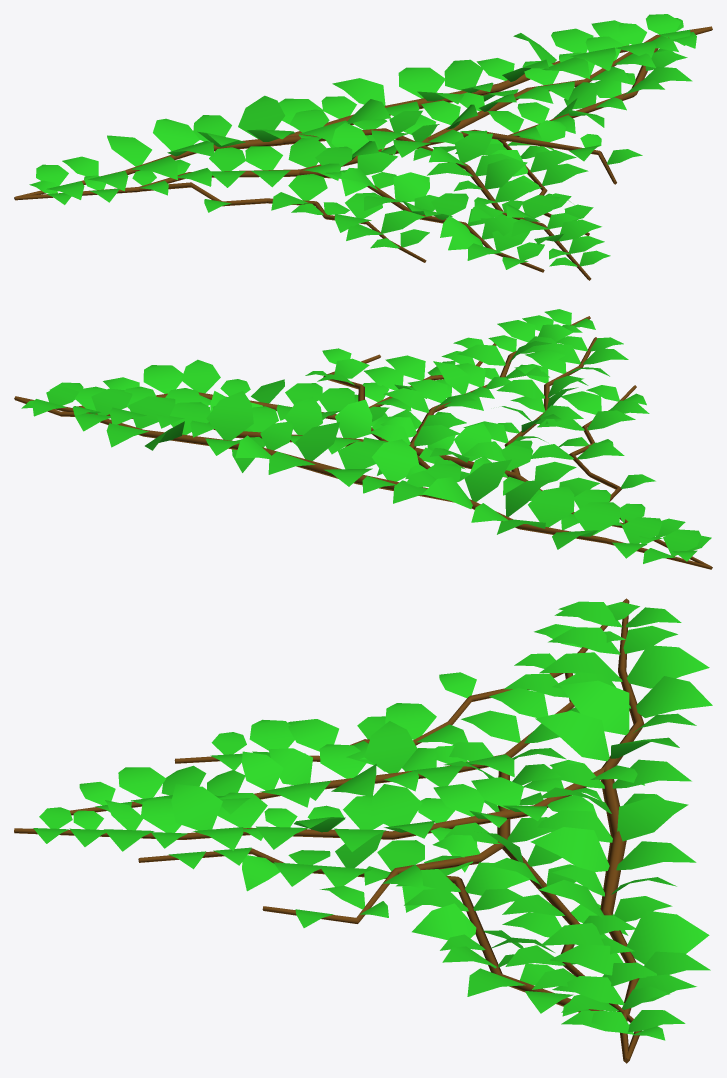
The model's file is Ivy_004.FBX.
3 renders of one model, top to bottom at view 1: azimuth 30°, elevation 25°; view 2: azimuth 150°, elevation 25°; view 3: azimuth 270°, elevation 25°, orthographic. The views are drawn at different scales.
Visible parts, largest first — view 1: Ivy_004; view 2: Ivy_004; view 3: Ivy_004.
Boxes of the visible parts, x1,y1,x2,y2 form: Ivy_004: (14, 14, 712, 280); Ivy_004: (14, 309, 712, 569); Ivy_004: (14, 598, 712, 1063).
Bounding box in the file's own units: 197 × 14.24 × 126.
